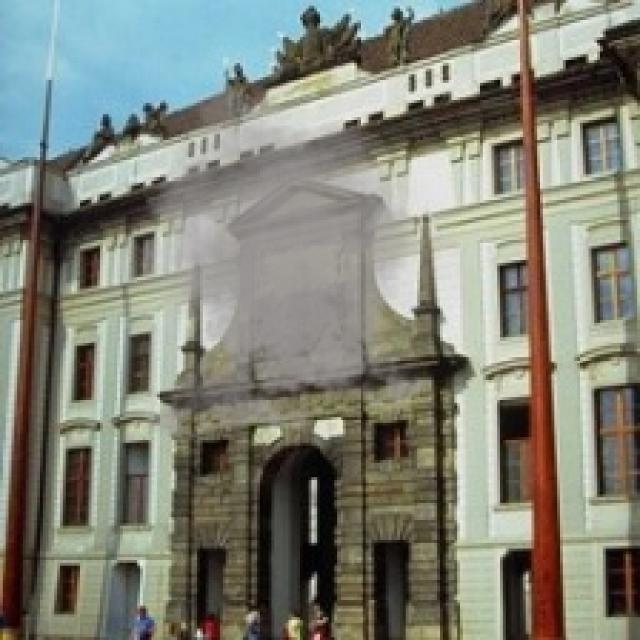Smoke: (88, 80, 480, 454)
